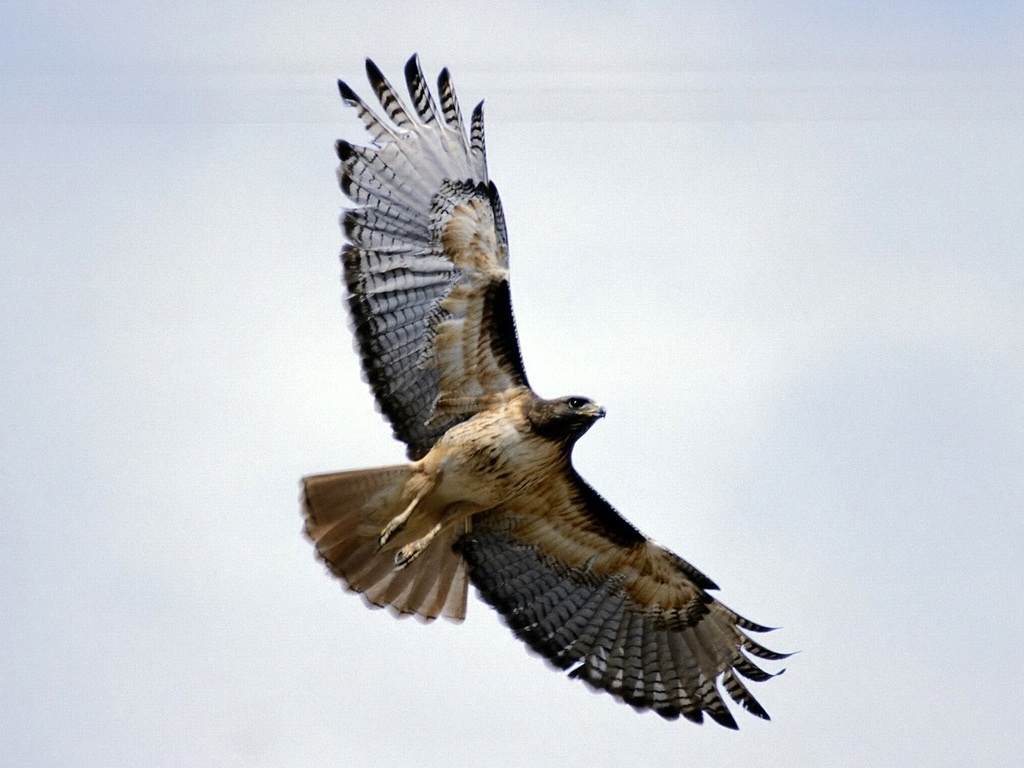bird: (290, 43, 798, 734)
